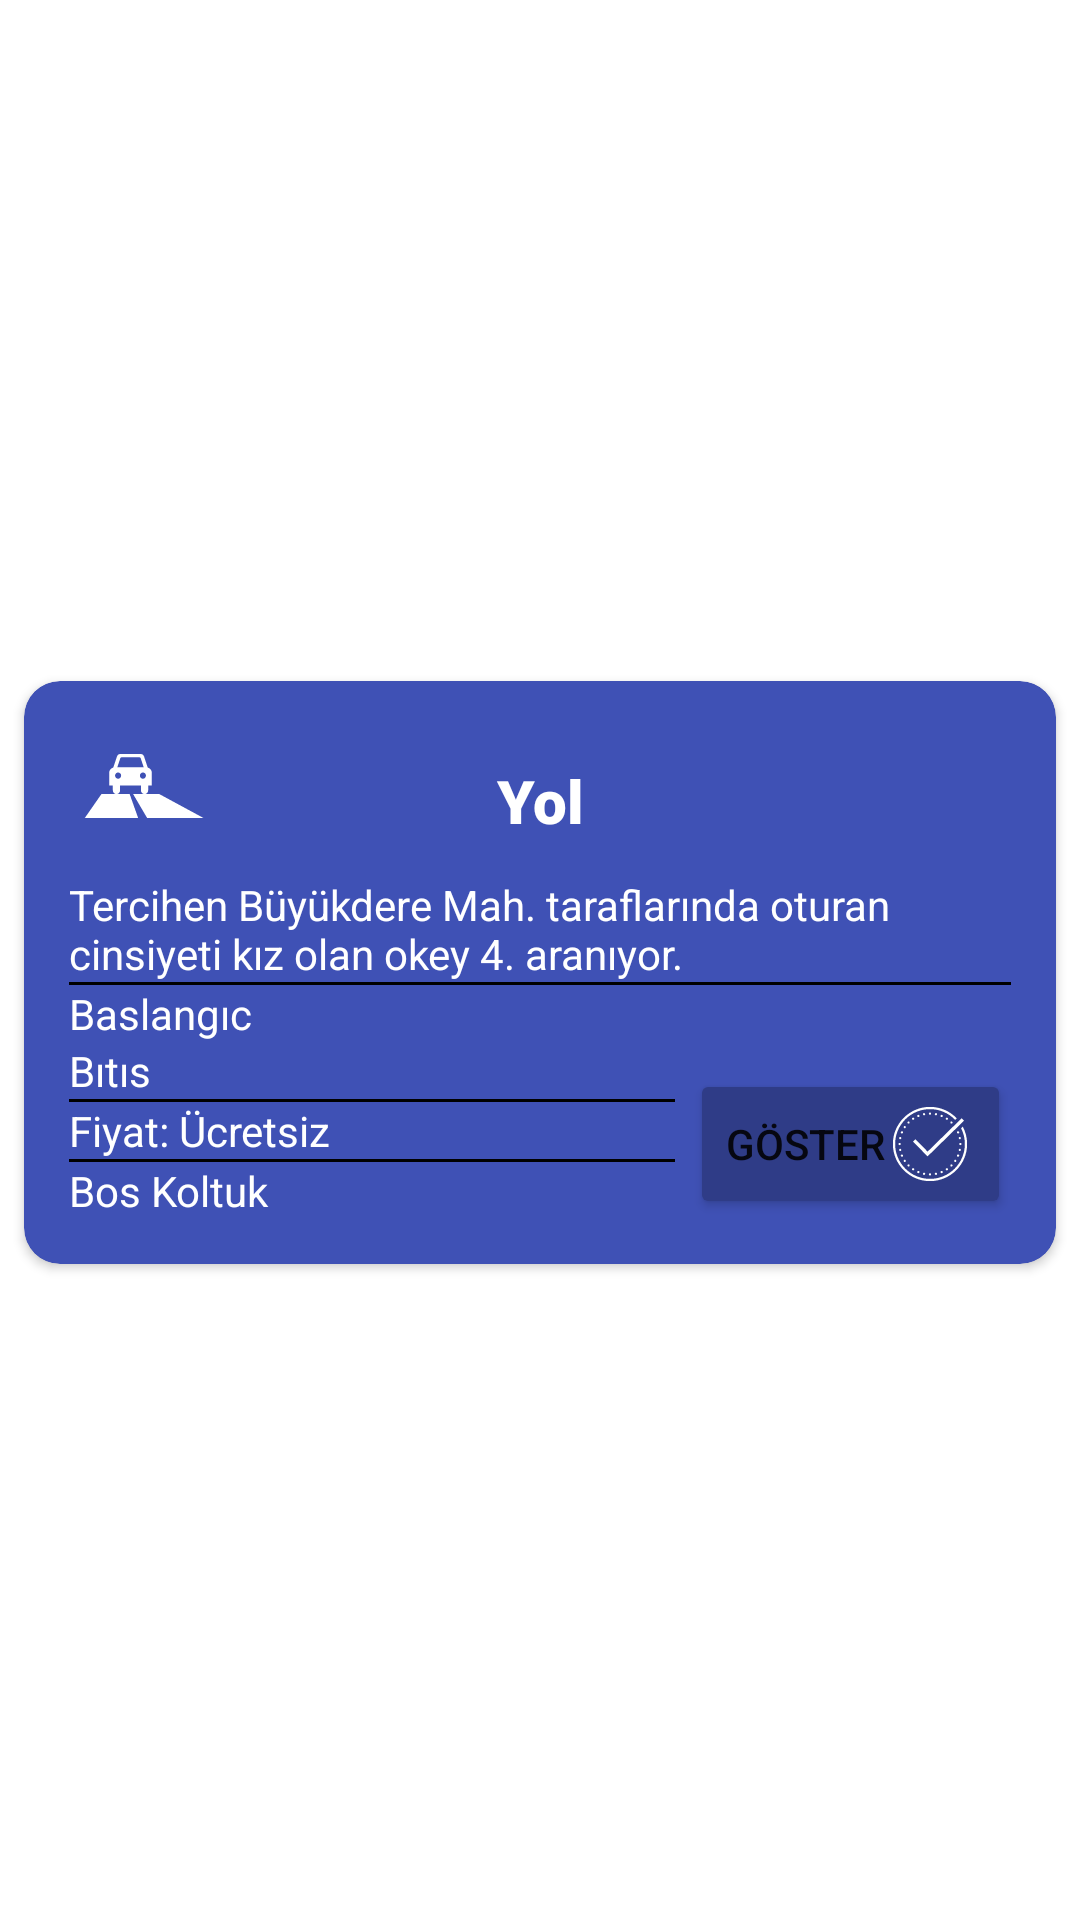

Icon click points for this 1080x1920 phone screenshot, format (x=x, y=y):
road activities: (x=144, y=786)
